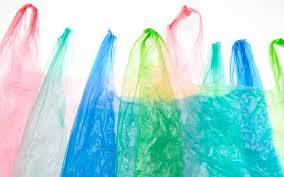Plastic bag: (114, 23, 284, 177), (2, 3, 40, 113), (46, 25, 78, 123)
